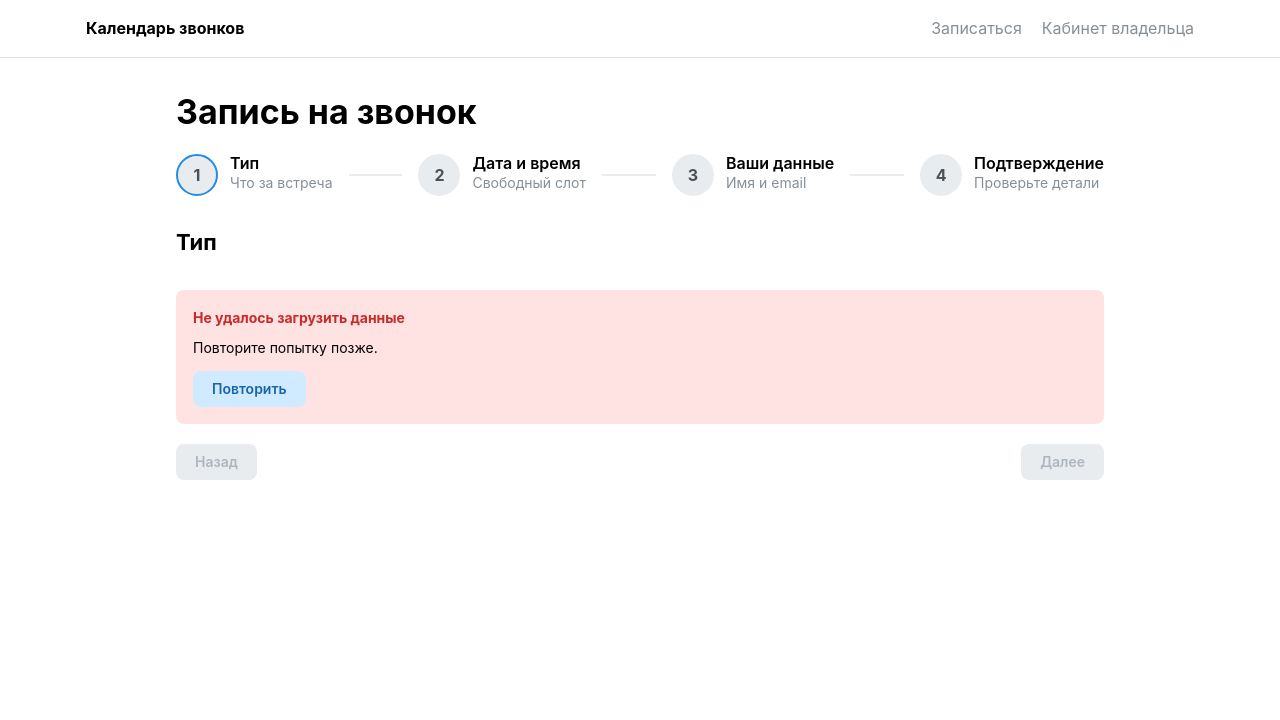
Test: мастер записи /book › показывает ошибку чтения типов и повторяет запрос по «Повторить»
The image size is (1280, 720).
expect the message shows "Не удалось загрузить данные": met, box [193,309,405,326]
Click the button "Повторить" at (249, 389), box [193,371,306,407]
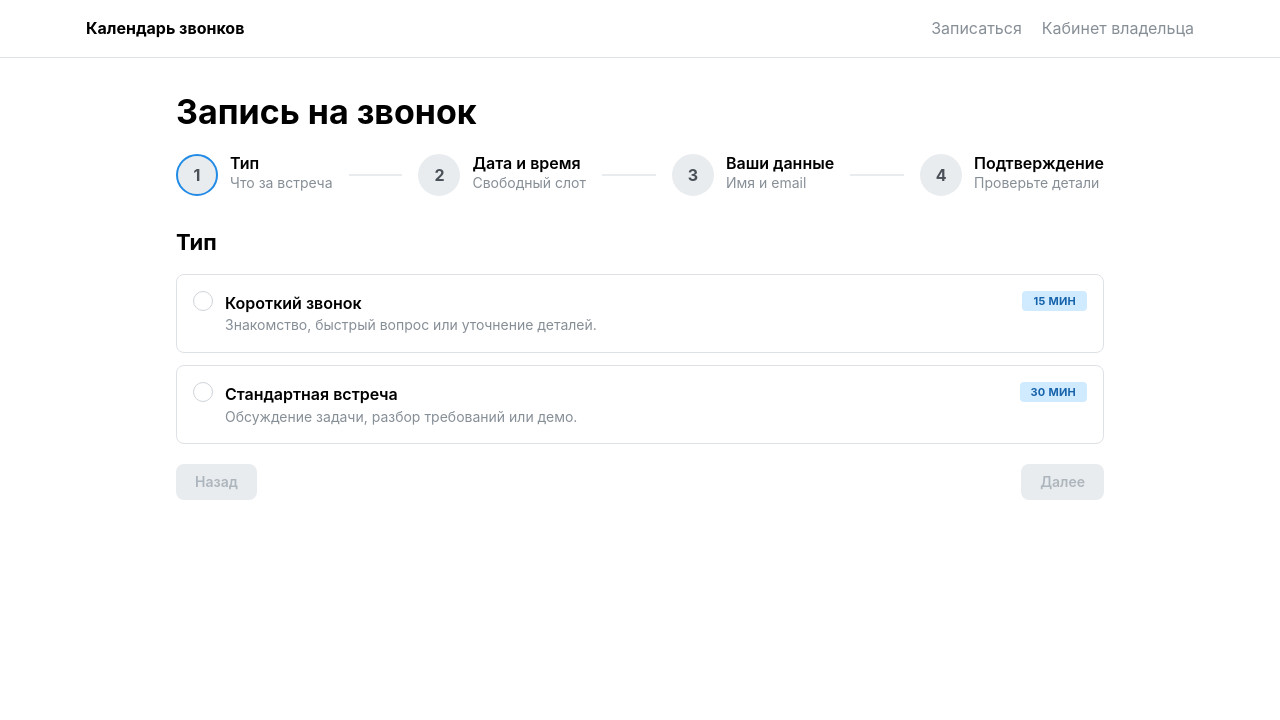
expect the text "Короткий звонок" is shown: met, box [225,293,362,313]
